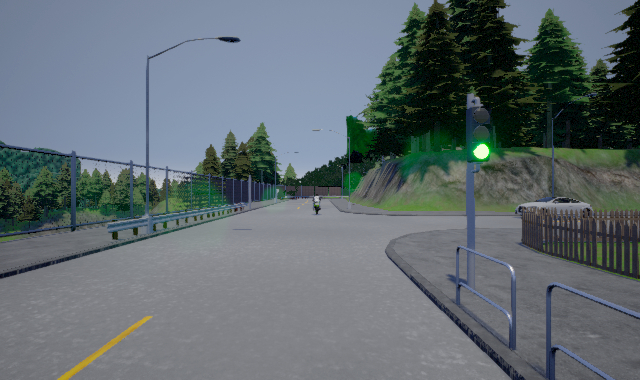motobike: (310, 192, 322, 216)
traffic_light: (466, 101, 493, 162)
vehicle: (515, 197, 594, 218)
